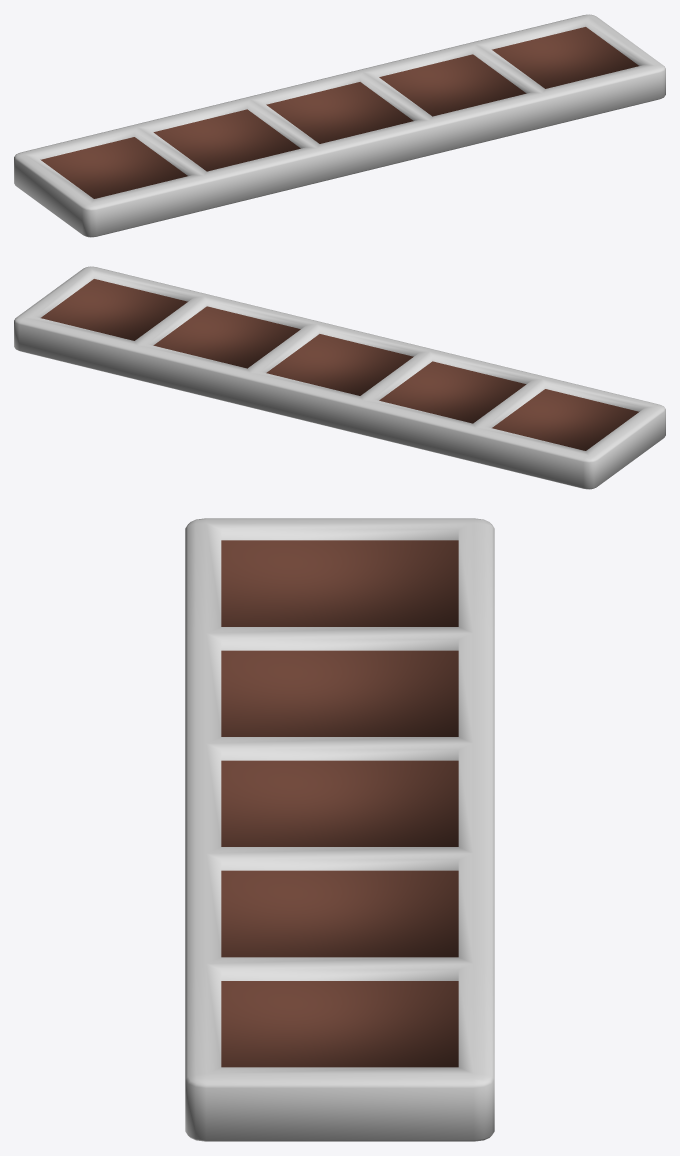
File: Cubee.fbx
3 views of the same model, one above another, from view 1: azimuth 30°, elevation 25°; view 2: azimuth 150°, elevation 25°; view 3: azimuth 270°, elevation 25° (orthographic). The views are drawn at different scales.
Parts seen in each view (by area): view 1: Cubee; view 2: Cubee; view 3: Cubee.
Part boxes in pixels (box(x1,y1,x2,y2)): Cubee: box(14, 14, 665, 237); Cubee: box(14, 266, 665, 489); Cubee: box(185, 518, 494, 1141).
Size of the model in its own units: 4175 by 216 by 961.
